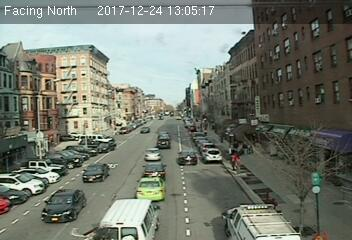car: (42, 189, 86, 223), (135, 176, 166, 201), (82, 163, 112, 183), (139, 161, 168, 179), (176, 150, 198, 166), (201, 147, 223, 161), (143, 147, 161, 161), (157, 137, 171, 148)
truck: (224, 203, 299, 240), (97, 197, 161, 240)
